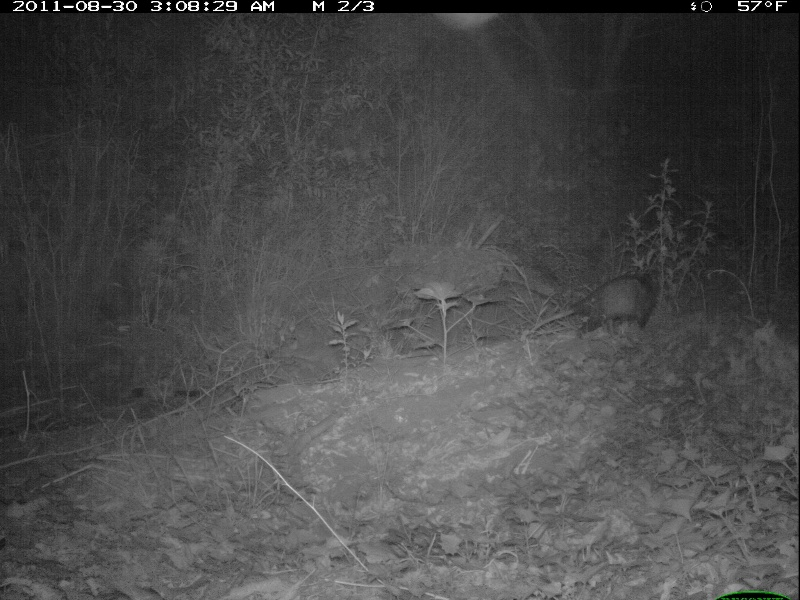opossum: (524, 274, 663, 344)
